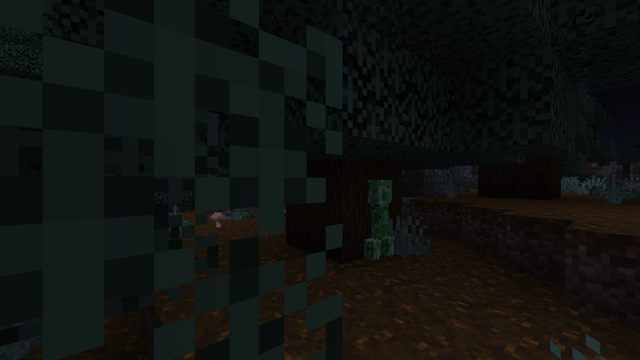creepers: (365, 176, 394, 260)
